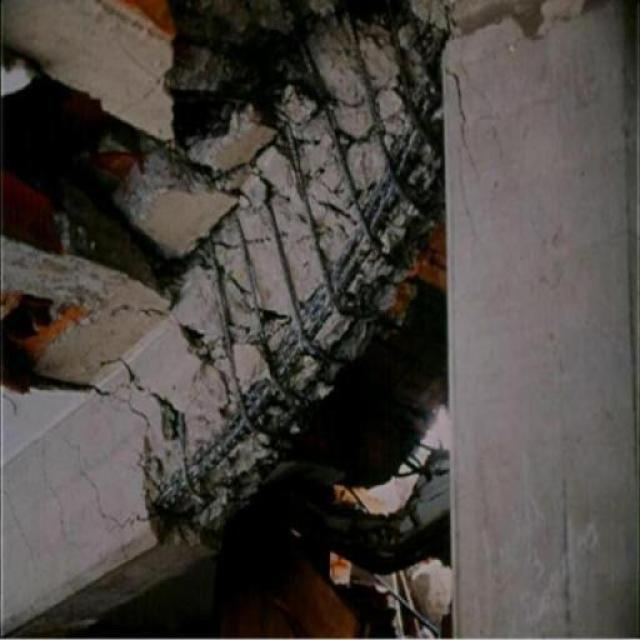D0w0: (146, 0, 454, 545)
